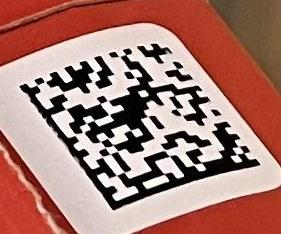datamatrix: (20, 44, 261, 211)
